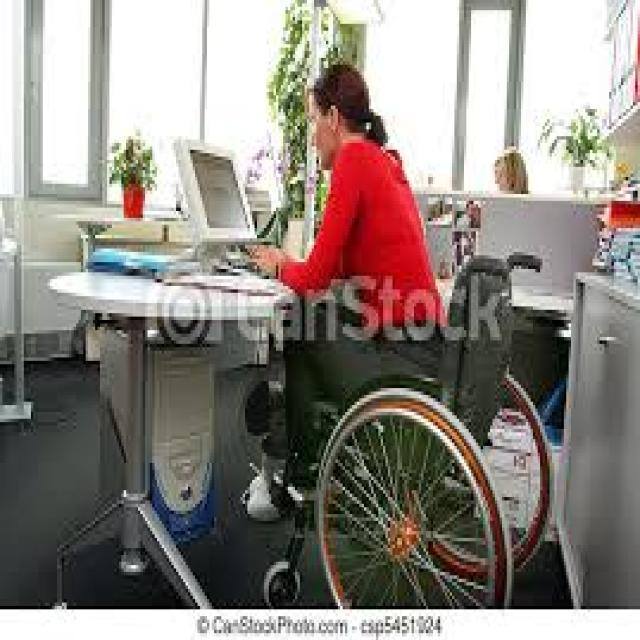wheelchairs: (259, 235, 552, 599)
